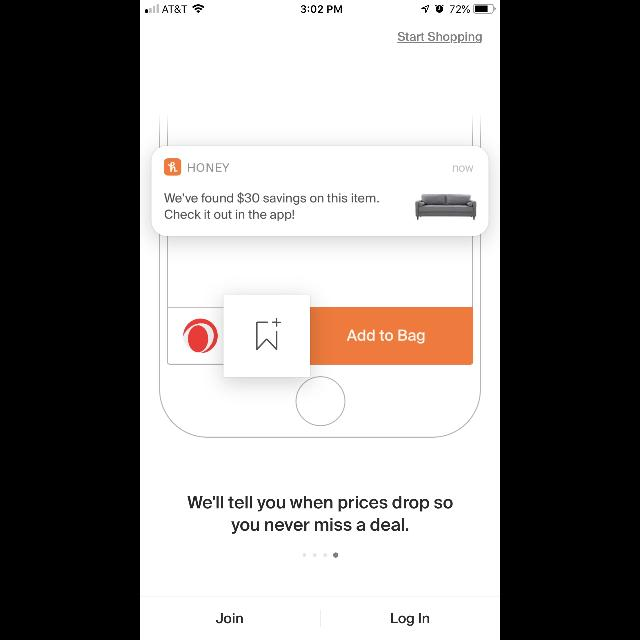image: (150, 116, 490, 438)
pageindicator: (302, 552, 338, 558)
text: (188, 496, 452, 534), (398, 32, 482, 44)
textbutton: (140, 596, 320, 640), (320, 596, 500, 640)
uppertaskbar: (140, 0, 500, 14)
